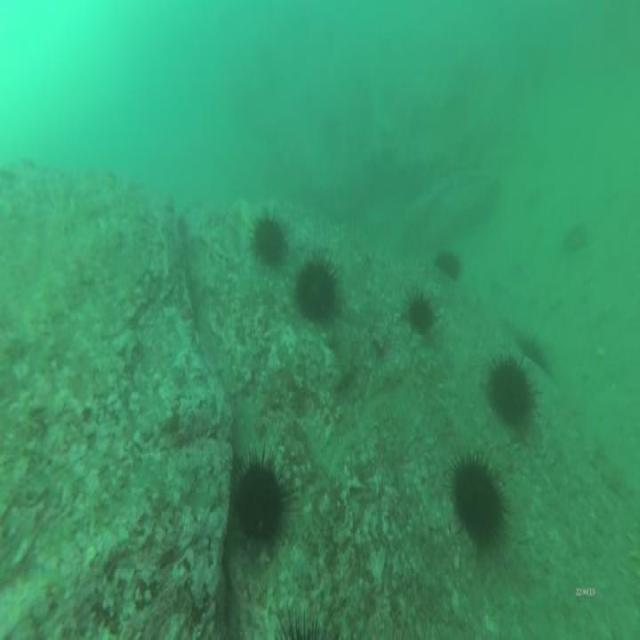echinus: (233, 454, 290, 556), (451, 454, 505, 548), (488, 354, 534, 428), (294, 256, 340, 326), (250, 208, 292, 274), (402, 288, 436, 338), (430, 243, 464, 283)
